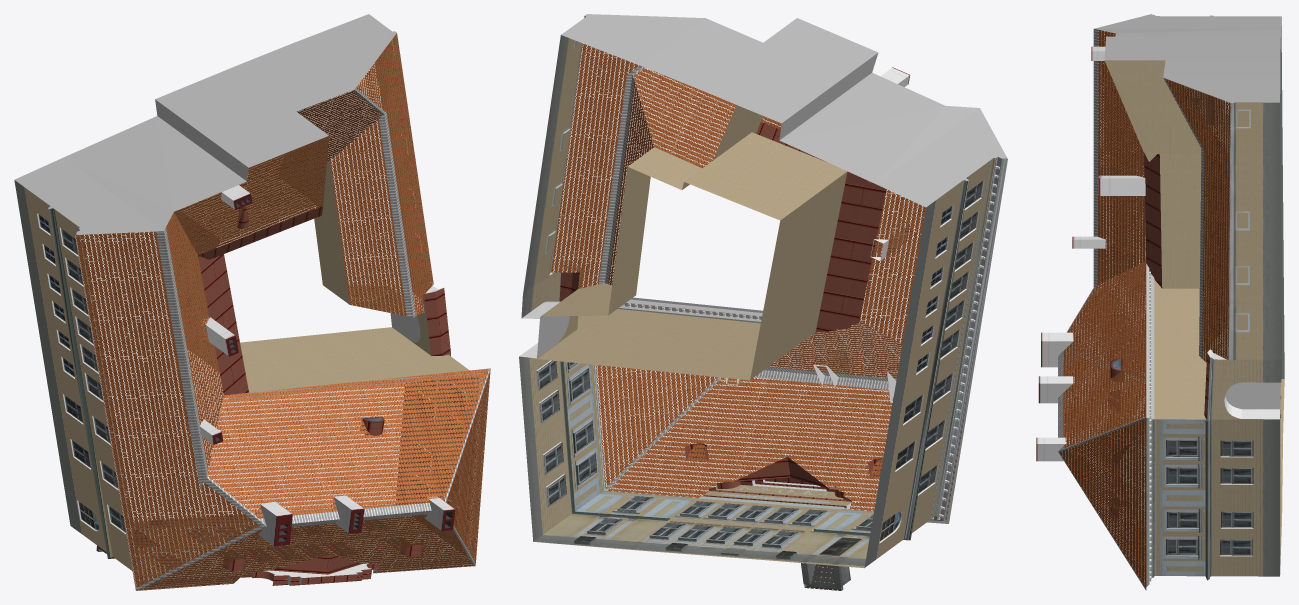
Rendered from Kiriku-2.obj.
3 views of the same model, side by side, from view 1: azimuth 30°, elevation 25°; view 2: azimuth 150°, elevation 25°; view 3: azimuth 270°, elevation 25° (orthographic). The views are drawn at different scales.
Parts seen in each view (by area): view 1: Kiriku_tn_2; view 2: Kiriku_tn_2; view 3: Kiriku_tn_2.
Boxes of the visible parts, bbox=[...] form: Kiriku_tn_2: bbox=[14, 14, 490, 590]; Kiriku_tn_2: bbox=[519, 14, 1007, 590]; Kiriku_tn_2: bbox=[1036, 14, 1284, 590].
Size of the model in its own units: 31.42 by 36.96 by 17.6.
